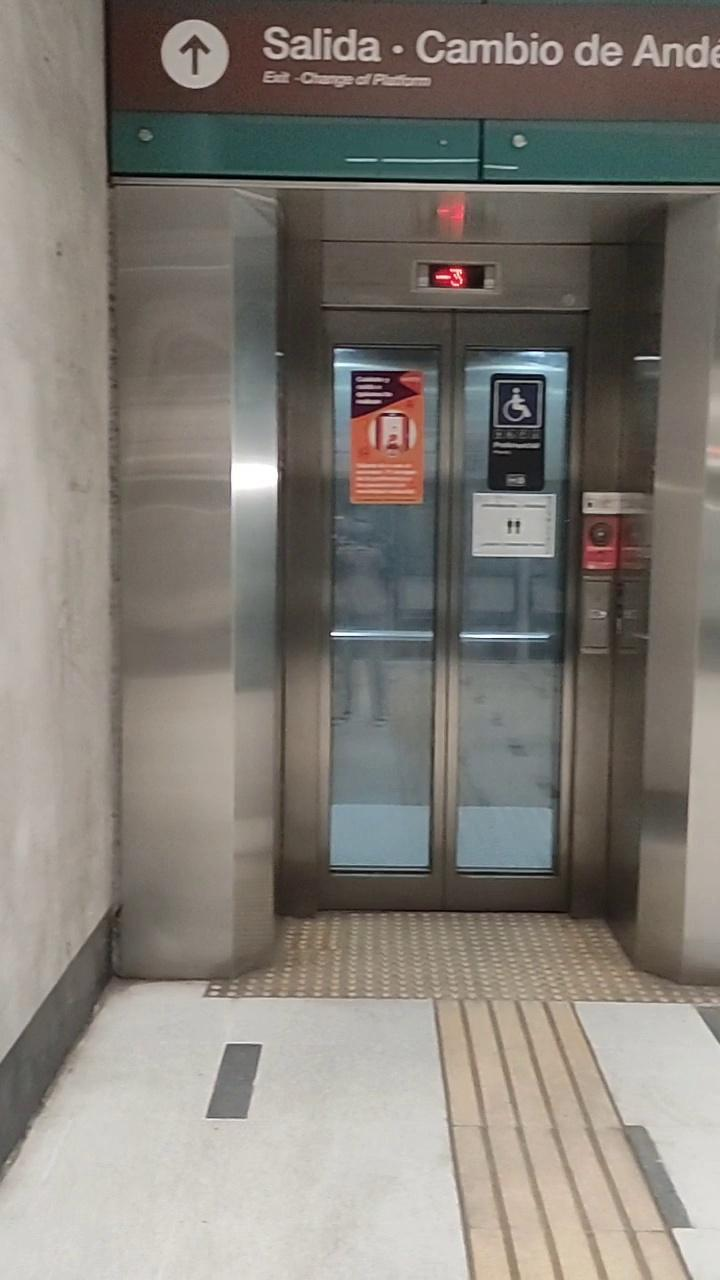handicapped symbol: (502, 387, 532, 422)
up arrow: (177, 32, 213, 77)
